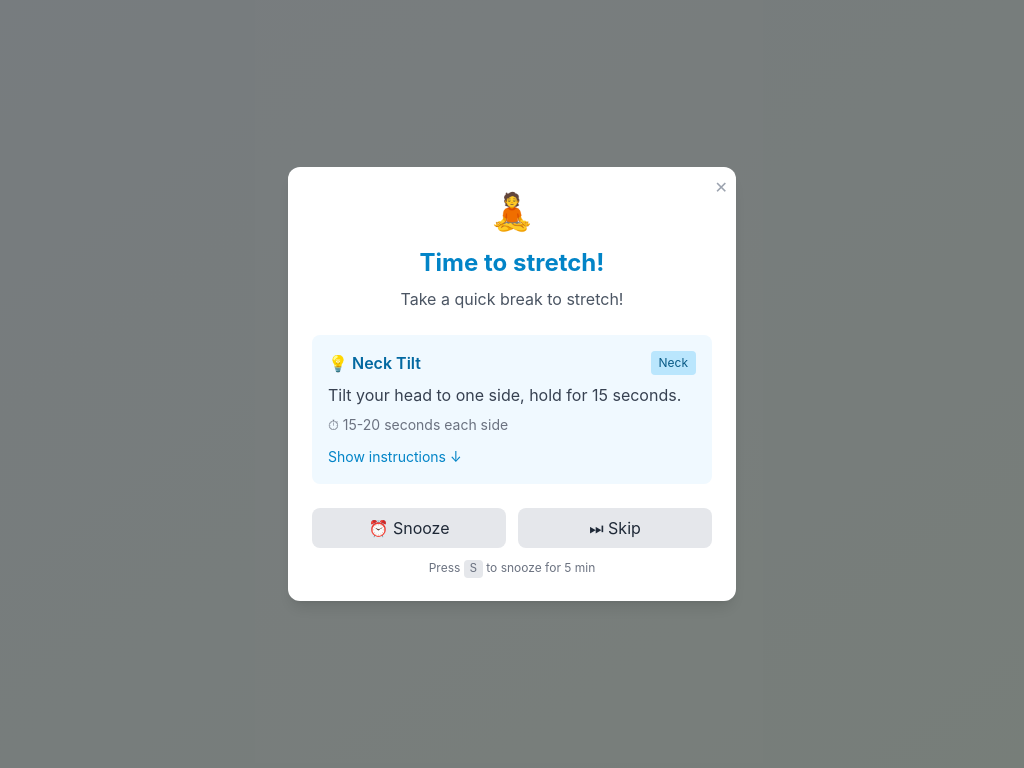
ReminderModal › should show snooze options when snooze button is clicked
Click the button "⏰ Snooze".
click(409, 528)  # box [312,508,506,548]
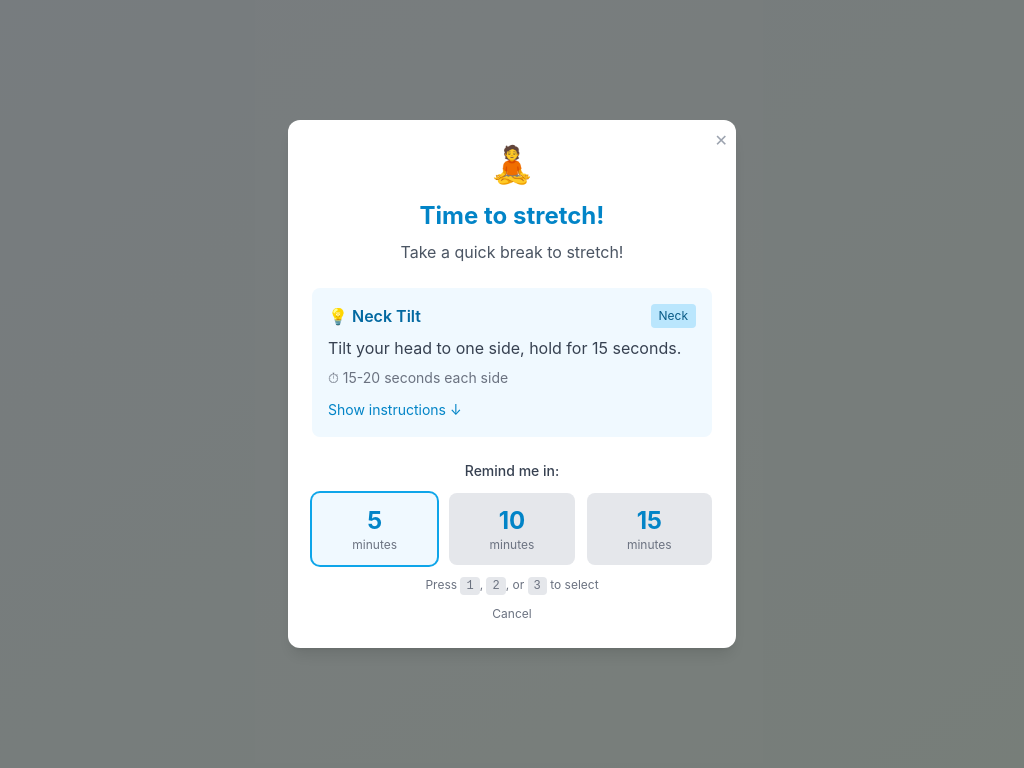
Now the button "5 minutes" is shown, box [312,493,437,565]
Now the button "10 minutes" is shown, box [449,493,575,565]
Now the button "15 minutes" is shown, box [587,493,712,565]
